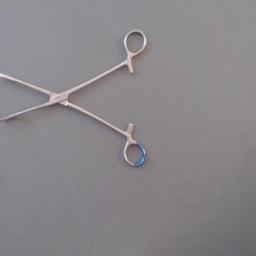Sponge Forceps: (0, 24, 150, 170)
